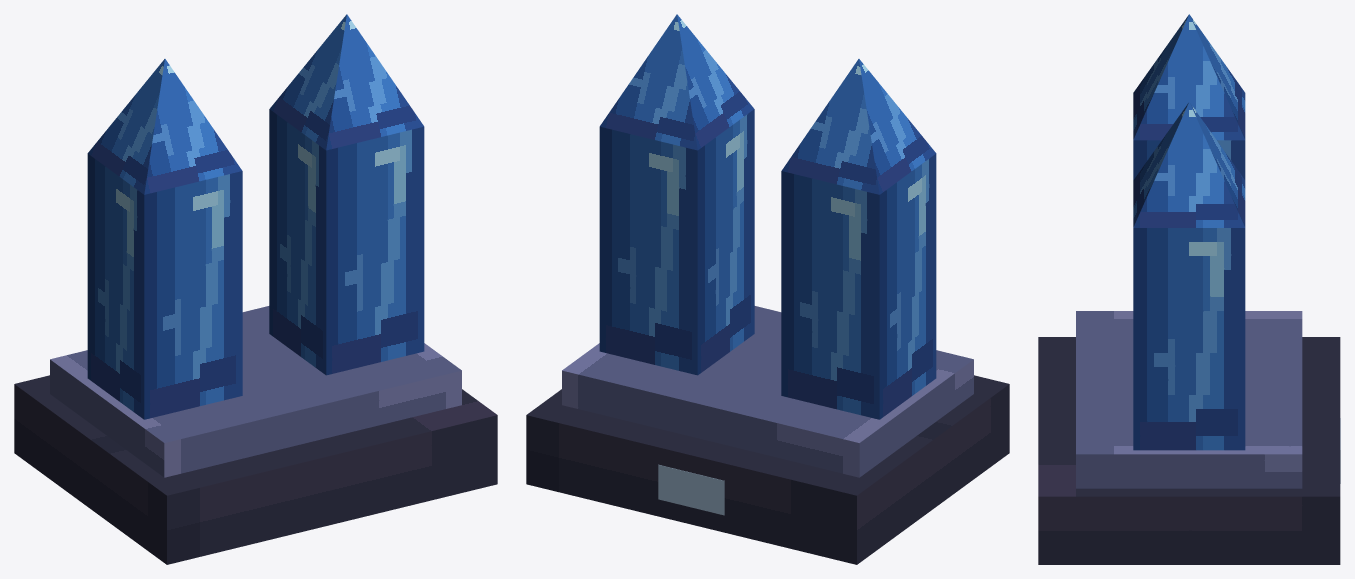
File: remote_crystal.obj
3 renders of one model, left to right at view 1: azimuth 30°, elevation 25°; view 2: azimuth 150°, elevation 25°; view 3: azimuth 270°, elevation 25°, orthographic.
Parts seen in each view (by area): view 1: Second_tuned_point, First_tuned_point, Paired_foot, Twin_socket; view 2: Second_tuned_point, First_tuned_point, Paired_foot, Twin_socket, Channel_inlay; view 3: Second_tuned_point, Paired_foot, Twin_socket, First_tuned_point.
Part boxes in pixels (x1,y1,x2,y2): Second_tuned_point: (269,14,424,375); First_tuned_point: (87,59,242,419); Paired_foot: (14,375,497,564); Twin_socket: (50,306,461,477); Second_tuned_point: (599,14,754,375); First_tuned_point: (781,59,936,419); Paired_foot: (526,375,1009,564); Twin_socket: (562,306,973,477); Channel_inlay: (658,464,724,515); Second_tuned_point: (1133,102,1245,450); Paired_foot: (1038,337,1340,564); Twin_socket: (1076,311,1302,488); First_tuned_point: (1133,14,1245,179).
Bounding box in the file's own units: 0.625 × 0.7812 × 0.5006.
